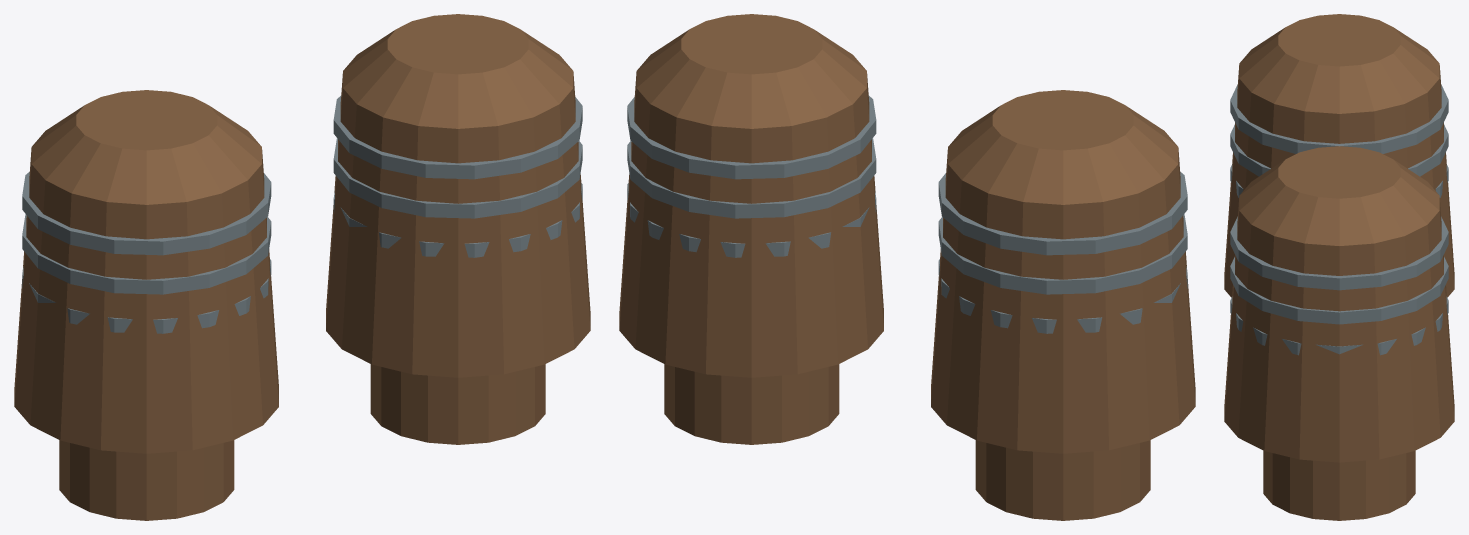
Rendered from F-21_silencers.glb.
3 renders of one model, left to right at view 1: azimuth 30°, elevation 25°; view 2: azimuth 150°, elevation 25°; view 3: azimuth 270°, elevation 25°, orthographic. The views are drawn at different scales.
Parts seen in each view (by area): view 1: F-21_silencers; view 2: F-21_silencers; view 3: F-21_silencers.
Part boxes in pixels (bbox=[...]): F-21_silencers: bbox=[14, 14, 590, 520]; F-21_silencers: bbox=[619, 14, 1195, 520]; F-21_silencers: bbox=[1224, 14, 1454, 520].
Size of the model in its own units: 0.29 by 0.185 by 0.1221.
